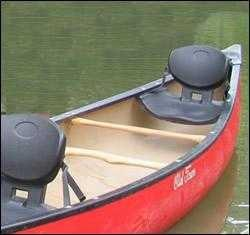kayak: (1, 40, 244, 232)
